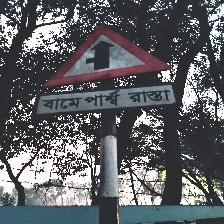Side-road-left: (37, 23, 176, 119)
